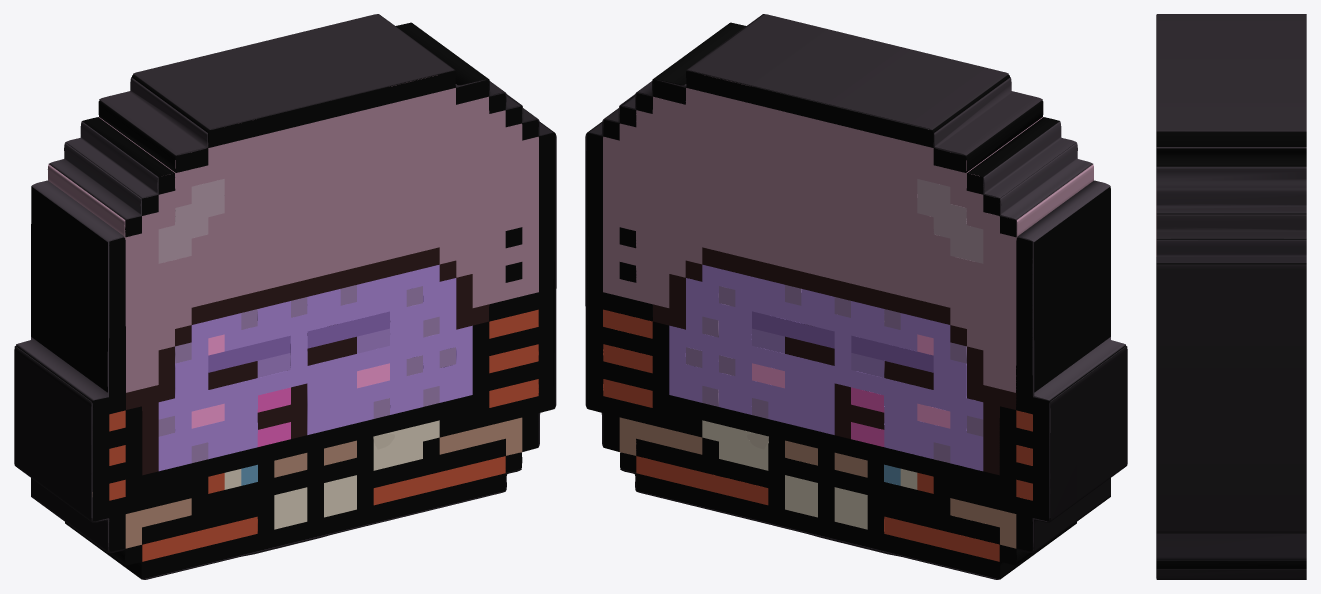
File: Toadz_5621.glb
The picture shows the model from 3 angles, left to right: view 1: azimuth 30°, elevation 25°; view 2: azimuth 150°, elevation 25°; view 3: azimuth 270°, elevation 25°; orthographic projection. The views are drawn at different scales.
Visible parts, largest first — view 1: Curve; view 2: Curve; view 3: Curve.
Part boxes in pixels (box(x1,y1,x2,y2)): Curve: box(14, 14, 556, 579); Curve: box(585, 14, 1127, 579); Curve: box(1156, 14, 1306, 579).
Bounding box in the file's own units: 3.5 × 3.14 × 1.
